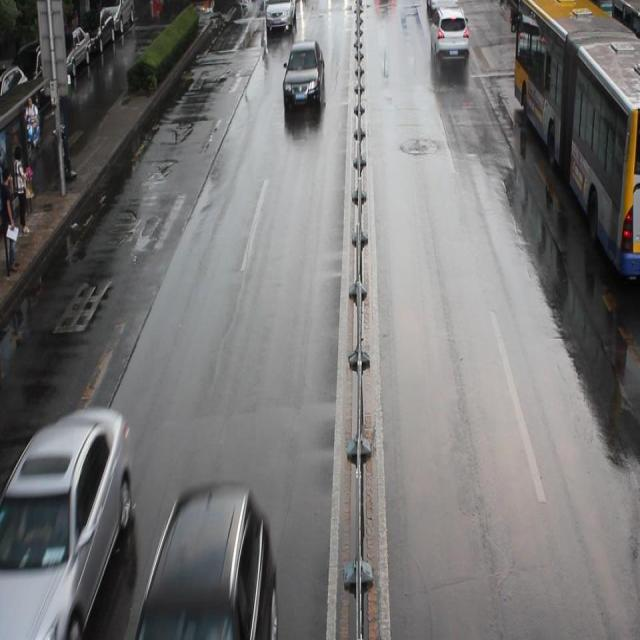car: (0, 407, 134, 640), (138, 482, 274, 640), (281, 43, 324, 119), (429, 10, 468, 61), (265, 1, 297, 37)
van: (512, 1, 640, 277)
